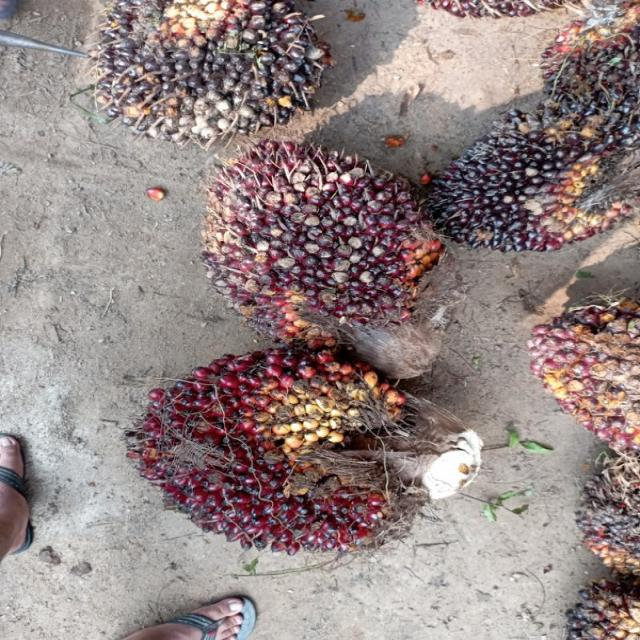fraksi 1: (153, 119, 492, 345)
